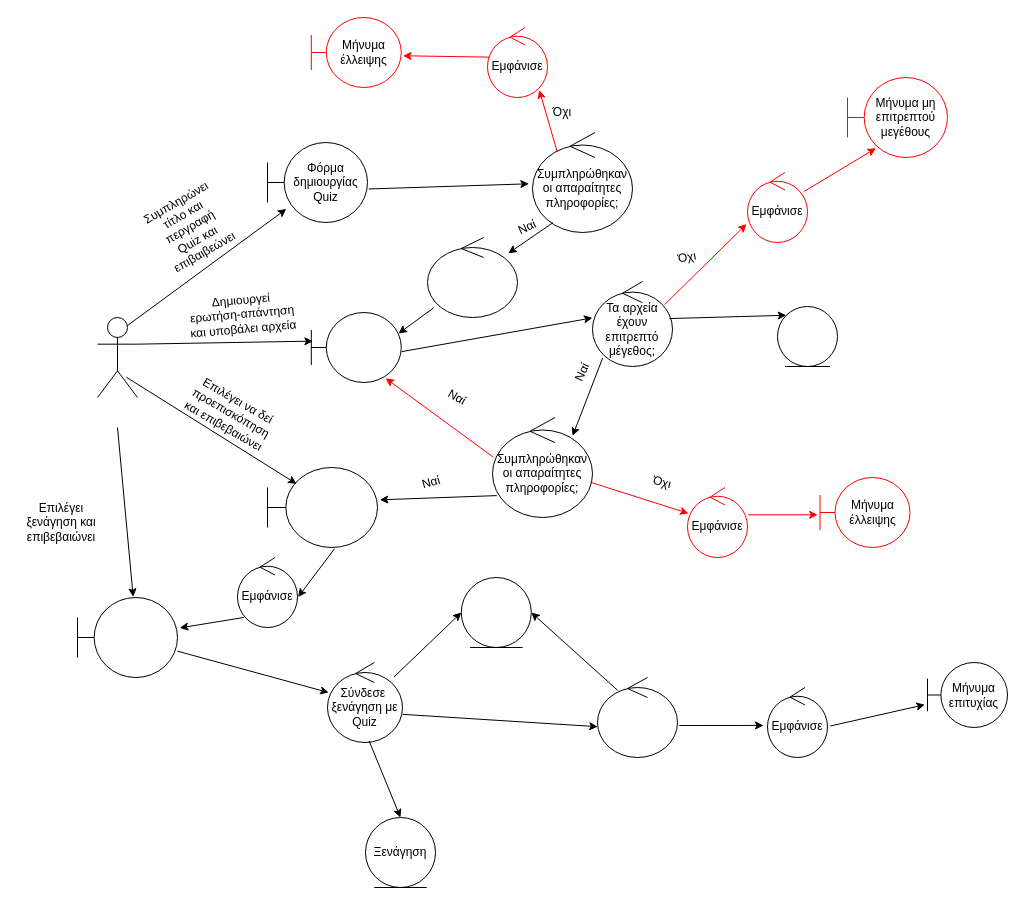
This 1025x905 diagram has some shape labels left out. The shapes that lost their labels are listed below. From the top down, each one's centre as x and y in pixels, then its label:
At (472,277): "Ενεργοποίησε".
At (355,347): "Φόρμα δημιουργίας ερωτήσεων".
At (807,336): "Αρχεία χειριστή".
At (117,357): "Ξεναγός".
At (322,507): "Οθόνη προεπισκόπισης Quiz".
At (495,612): "Quiz".
At (127,637): "Λίστα ιστορικού ξεναγήσεων του χειριστή".
At (637,717): "Καταχώρησε".
